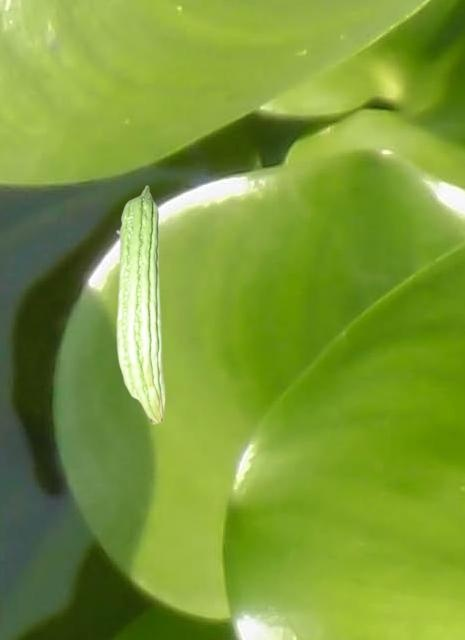ampalaya: (114, 185, 165, 425)
